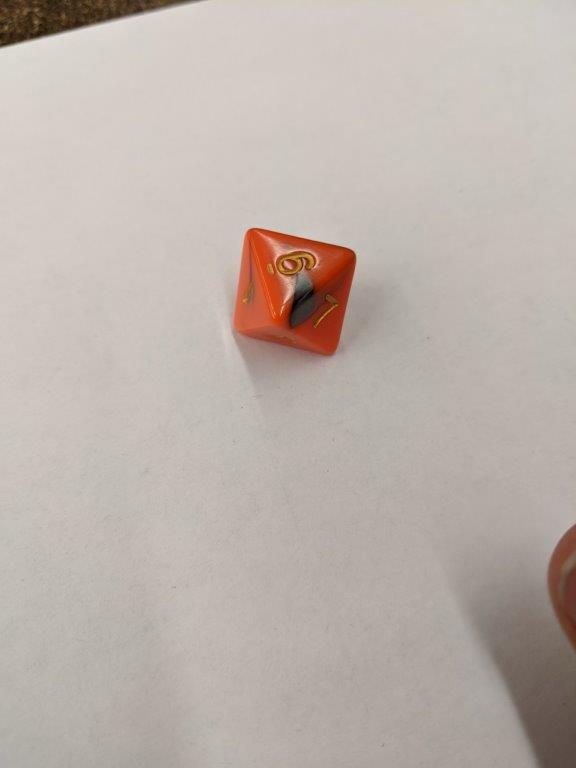d8-6: (230, 227, 357, 357)
